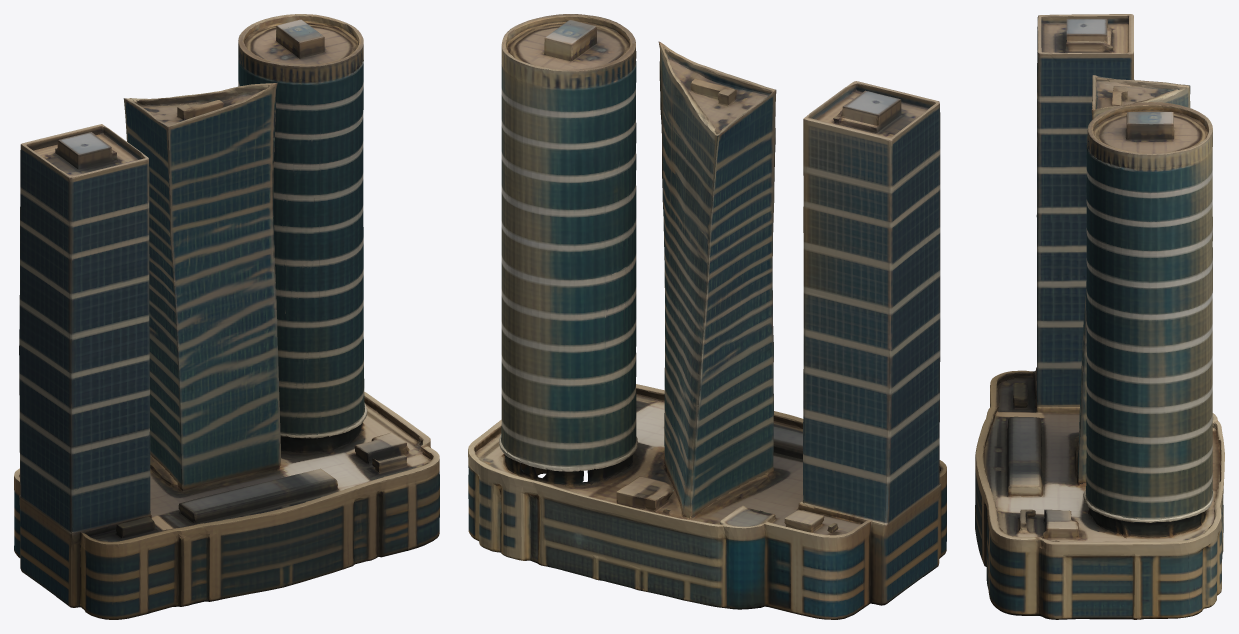
The model's file is lm_azrieli_towers_nb_try2.glb.
3 views of the same model, side by side, from view 1: azimuth 30°, elevation 25°; view 2: azimuth 150°, elevation 25°; view 3: azimuth 270°, elevation 25° (orthographic). The views are drawn at different scales.
Visible parts, largest first — view 1: world; view 2: world; view 3: world.
Part boxes in pixels (bbox=[...]): world: bbox=[14, 14, 439, 619]; world: bbox=[468, 14, 946, 619]; world: bbox=[975, 14, 1224, 619].
Bounding box in the file's own units: 0.8258 × 0.9986 × 0.4866.
1 material, 1 textured.
